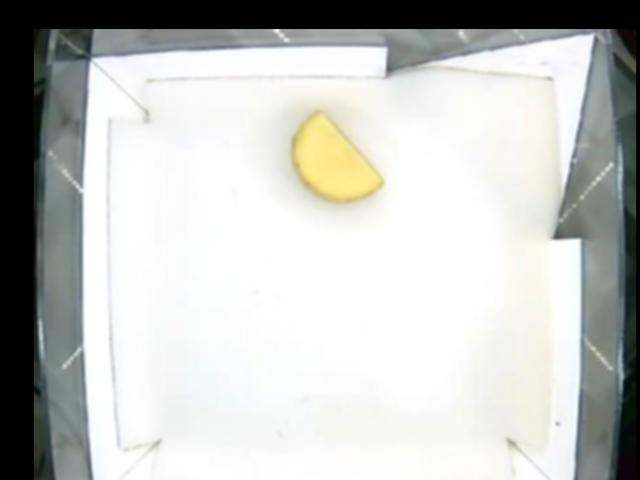Potato: (288, 111, 387, 200)
